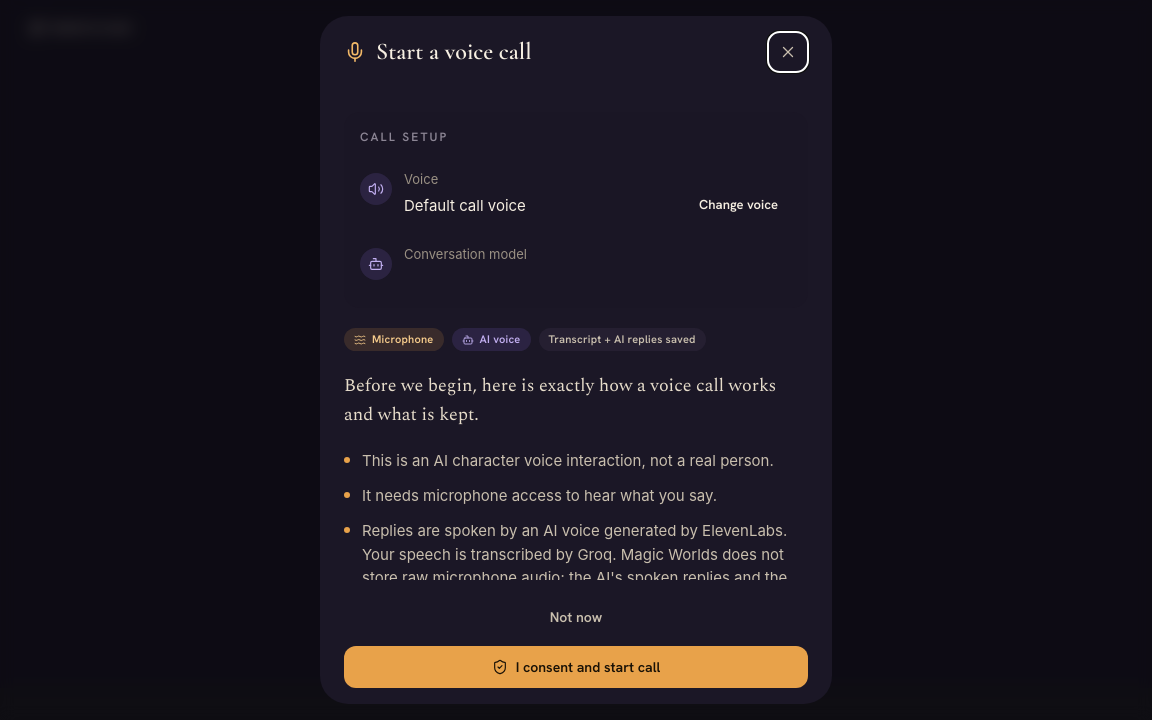
Test: Voice call integration proof › tears down on auth expiry and sends no second end on route leave (S-1)
Click the button "I consent and start call".
click(576, 667)  # box x1=344 y1=646 x2=808 y2=688
(page scrolled)
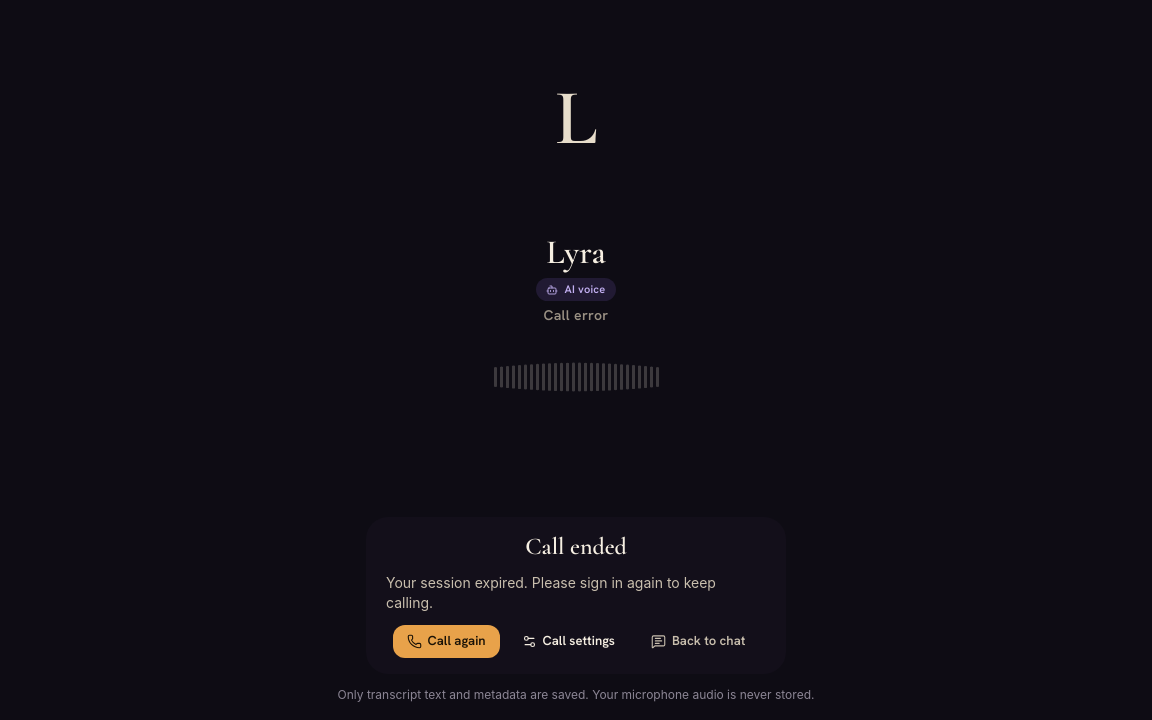
Expected: the message shows "session expired", x1=386 y1=574 x2=716 y2=612
